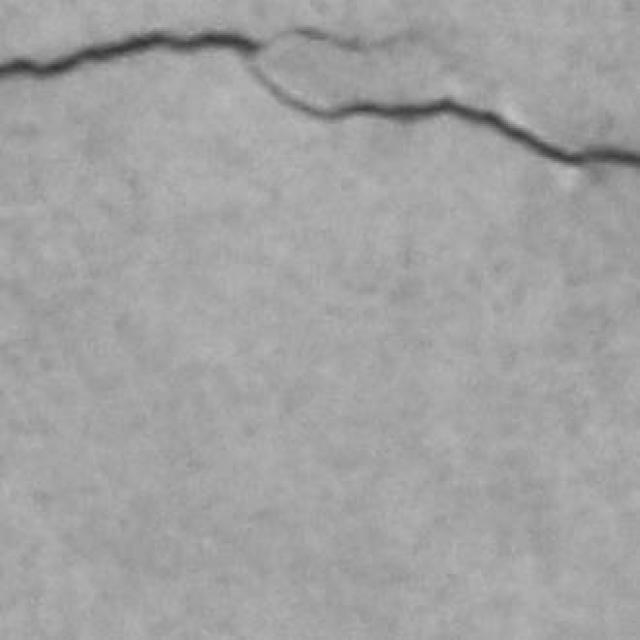crack: (0, 30, 639, 166), (256, 72, 639, 168), (0, 32, 265, 79)
